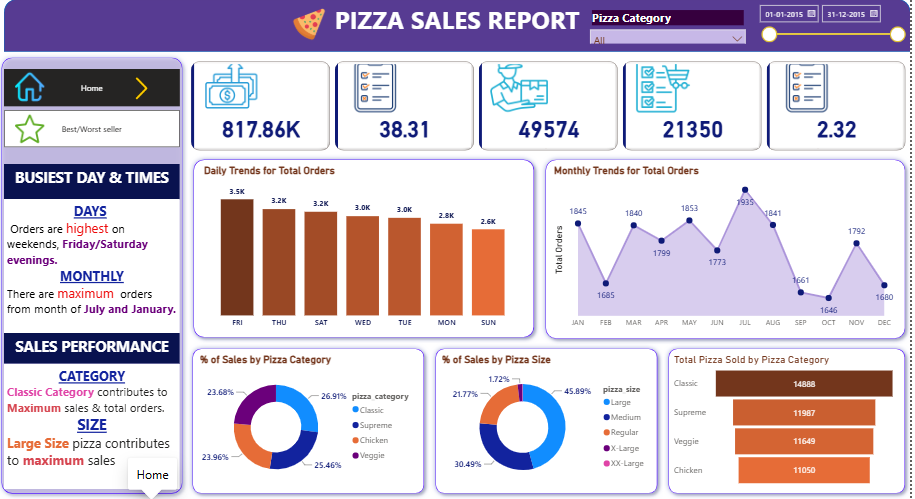

Layout of this report page (visuals, bound fields, positions):
{"tool":"powerbi","page":{"name":"Home ","canvas":[1500,820],"ordinal":0},"visuals":[{"type":"cardVisual","fields":{"Data":["pizza_sales.Total Revenue","pizza_sales.Avg Order Value","pizza_sales.Total Pizza Sold","pizza_sales.Total Orders","pizza_sales.Avg Pizzas Per Order"]},"box":[314.9,96.8,1185.7,157.4],"z":0},{"type":"shape","box":[13.3,0,1486.7,86.7],"z":1000},{"type":"image","box":[198.3,10,630,63.3],"z":2000},{"type":"shape","box":[315,255,576.7,310],"z":3000},{"type":"columnChart","title":"Daily Trends for Total Orders","fields":{"Category":["pizza_sales.Order Day"],"Y":["pizza_sales.Total Orders"]},"box":[336.7,270,531.7,278.3],"z":4000},{"type":"shape","box":[892,254,608,312],"z":5000},{"type":"areaChart","title":"Monthly Trends for Total Orders","fields":{"Category":["pizza_sales.Order Month"],"Y":["pizza_sales.Total Orders"]},"box":[910,270,570,278],"z":6000},{"type":"shape","box":[314,564,398,256],"z":7000},{"type":"shape","box":[712,564,382,256],"z":8000},{"type":"shape","box":[1094,564,406,256],"z":9000},{"type":"donutChart","title":"% of Sales by Pizza Category","fields":{"Category":["pizza_sales.pizza_category"],"Y":["pizza_sales.Total Revenue"]},"box":[330,580,368,224],"z":10000},{"type":"donutChart","title":"% of Sales by Pizza Size","fields":{"Y":["pizza_sales.Total Revenue"],"Category":["pizza_sales.pizza_size"]},"box":[726,580,354,224],"z":11000},{"type":"funnel","title":"Total Pizza Sold by Pizza Category","fields":{"Y":["pizza_sales.Total Pizza Sold"],"Category":["pizza_sales.pizza_category"]},"box":[1106.7,580,373.3,223.3],"z":12000},{"type":"shape","box":[0,86.7,315,733.3],"z":13000},{"type":"textbox","box":[13.3,270,288.3,58.3],"z":14000},{"type":"textbox","box":[13.3,328.3,288.3,220],"z":15000},{"type":"textbox","box":[13.3,548.3,288.3,50],"z":16000},{"type":"textbox","box":[13.3,598.3,288.3,205],"z":17000},{"type":"slicer","fields":{"Values":["pizza_sales.pizza_category"]},"box":[965,13.3,275,60],"z":18000},{"type":"slicer","fields":{"Values":["pizza_sales.order_date"]},"box":[1240,0,260,76.7],"z":19000},{"type":"pageNavigator","box":[13.3,115,288.3,61.7],"z":20000},{"type":"pageNavigator","box":[13.3,181.7,288.3,61.7],"z":21000},{"type":"image","box":[210,123.3,58.3,46.7],"z":22000},{"type":"image","box":[26.7,180,58.3,65],"z":23000},{"type":"image","box":[26.7,111.7,58.3,65],"z":24000}]}

Visuals, with their boxes in screenshot pixels (x1, y1, x2, y2), scaled from the page's 1500x820 canvas onto the 915x499 screenshot:
cardVisual - pizza_sales.Total Revenue x pizza_sales.Avg Order Value: l=192, t=59, r=914, b=155
shape: l=8, t=0, r=914, b=53
image: l=121, t=6, r=505, b=45
shape: l=192, t=155, r=544, b=344
"Daily Trends for Total Orders" columnChart: l=205, t=164, r=530, b=334
shape: l=544, t=155, r=914, b=344
"Monthly Trends for Total Orders" areaChart: l=555, t=164, r=903, b=333
shape: l=192, t=343, r=434, b=498
shape: l=434, t=343, r=667, b=498
shape: l=667, t=343, r=914, b=498
"% of Sales by Pizza Category" donutChart: l=201, t=353, r=426, b=489
"% of Sales by Pizza Size" donutChart: l=443, t=353, r=659, b=489
"Total Pizza Sold by Pizza Category" funnel: l=675, t=353, r=903, b=489
shape: l=0, t=53, r=192, b=498
textbox: l=8, t=164, r=184, b=200
textbox: l=8, t=200, r=184, b=334
textbox: l=8, t=334, r=184, b=364
textbox: l=8, t=364, r=184, b=489
slicer - pizza_sales.pizza_category: l=589, t=8, r=756, b=45
slicer - pizza_sales.order_date: l=756, t=0, r=914, b=47
pageNavigator: l=8, t=70, r=184, b=108
pageNavigator: l=8, t=111, r=184, b=148
image: l=128, t=75, r=164, b=103
image: l=16, t=110, r=52, b=149
image: l=16, t=68, r=52, b=108
